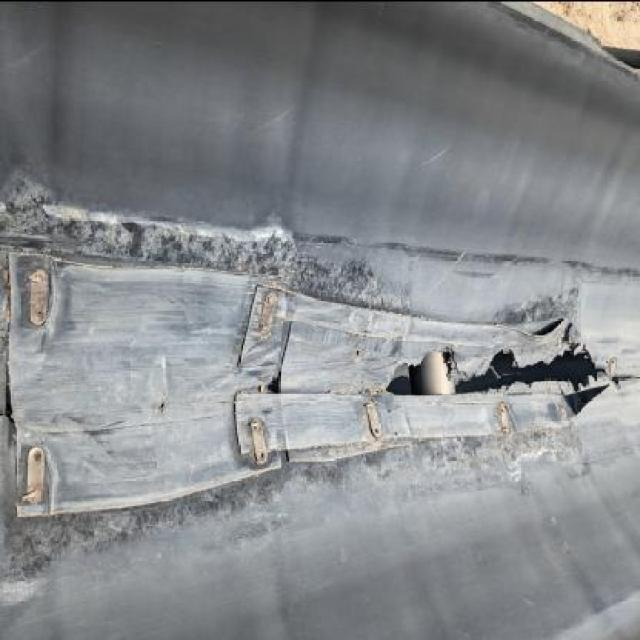Hole: (379, 321, 640, 420)
